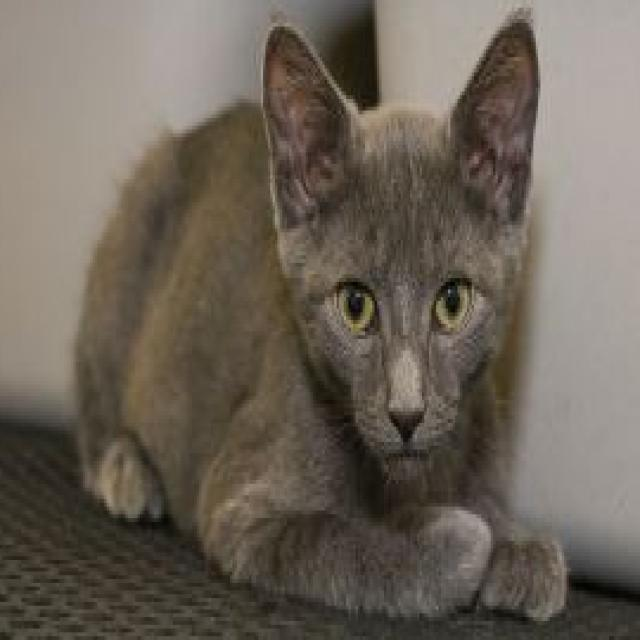Russian Blue: (70, 4, 570, 628)
